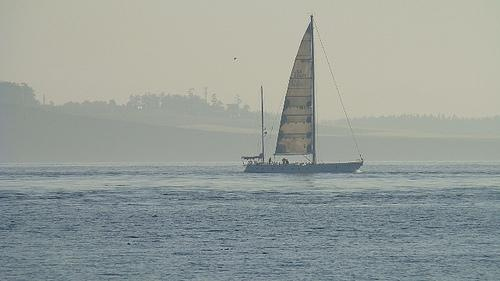Ship: (243, 16, 365, 173)
